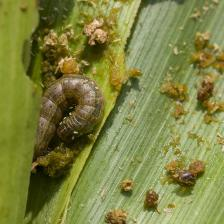Worms: (25, 58, 124, 161)
